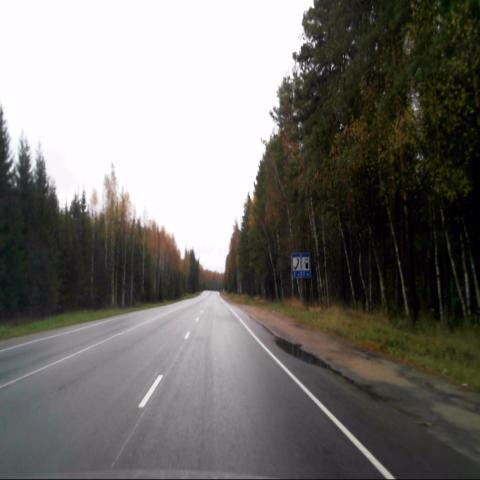7_3: (301, 252, 311, 278)
7_6: (292, 253, 302, 280)
